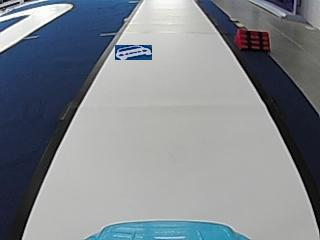bomb: (233, 28, 271, 50)
